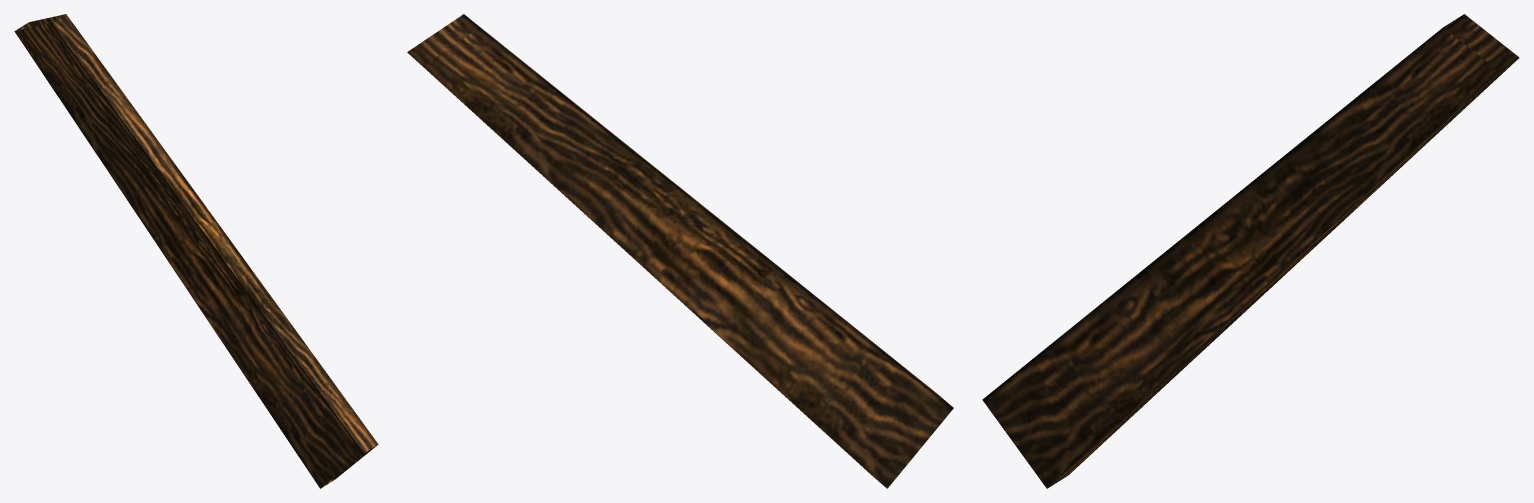
File: OVERHILL_A_01_BOX84.fbx
The picture shows the model from 3 angles, left to right: view 1: azimuth 90°, elevation 25°; view 2: azimuth 150°, elevation 25°; view 3: azimuth 270°, elevation 25°; orthographic projection. The views are drawn at different scales.
Visible parts, largest first — view 1: OVERHILL_A_01_BOX84; view 2: OVERHILL_A_01_BOX84; view 3: OVERHILL_A_01_BOX84.
Boxes of the visible parts, left/top/right/bottom form: OVERHILL_A_01_BOX84: left=14, top=14, right=378, bottom=488; OVERHILL_A_01_BOX84: left=407, top=14, right=953, bottom=488; OVERHILL_A_01_BOX84: left=982, top=14, right=1519, bottom=488.
Bounding box in the file's own units: 3823 × 6383 × 5412.
Materials: 1 (1 with a texture image).
